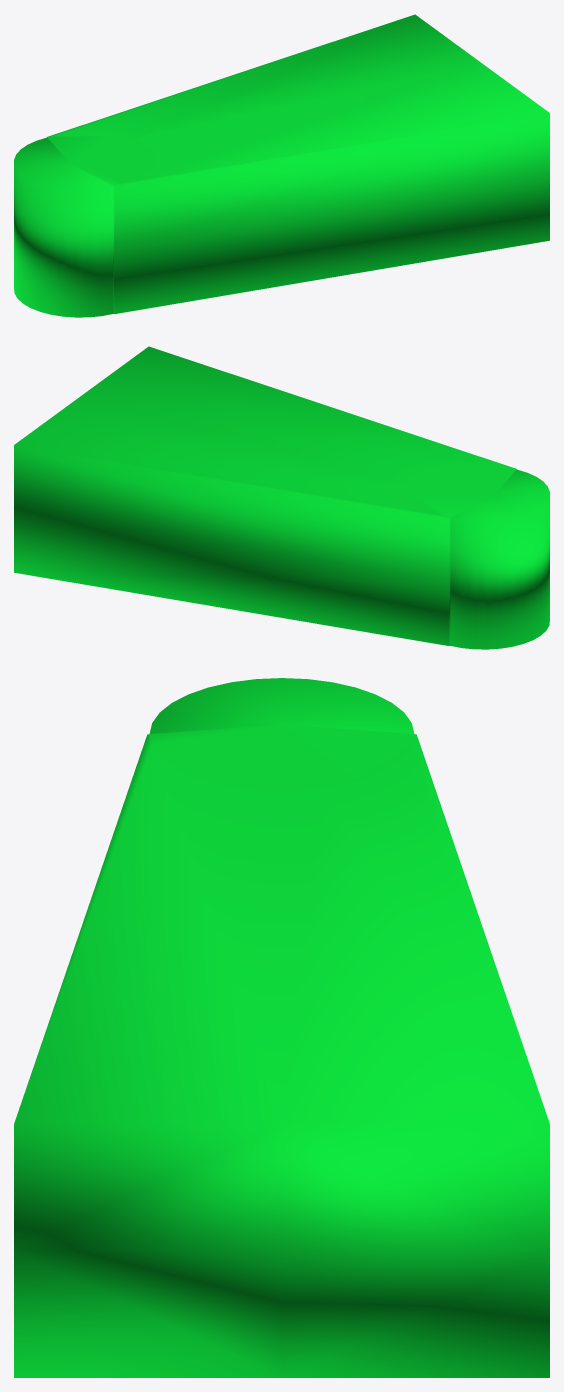
File: flipper.fbx
3 renders of one model, top to bottom at view 1: azimuth 30°, elevation 25°; view 2: azimuth 150°, elevation 25°; view 3: azimuth 270°, elevation 25°, orthographic. The views are drawn at different scales.
Parts seen in each view (by area): view 1: 立方体; view 2: 立方体; view 3: 立方体.
Boxes of the visible parts, x1,y1,x2,y2 form: 立方体: (14, 14, 549, 317); 立方体: (14, 346, 549, 649); 立方体: (14, 678, 549, 1377).
Size of the model in its own units: 377 by 100 by 191.
